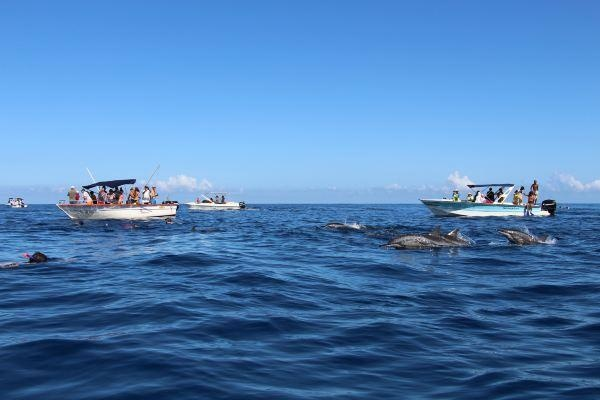fish: (381, 226, 463, 249), (491, 224, 561, 248)
otherboat: (51, 198, 182, 227), (414, 193, 558, 218), (184, 198, 248, 214)
